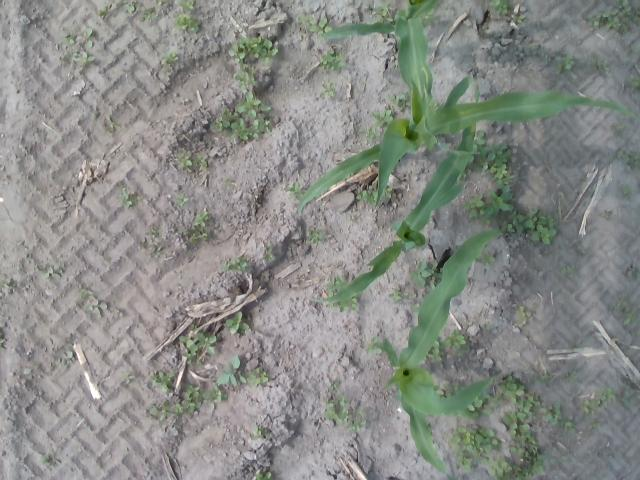Maize: (298, 72, 638, 216), (312, 124, 476, 304), (384, 228, 500, 480), (320, 0, 480, 156)
Weeds: (492, 375, 576, 480), (208, 90, 278, 140), (227, 36, 279, 90), (448, 423, 501, 472), (503, 208, 559, 246), (318, 395, 370, 432), (589, 0, 640, 36), (176, 334, 220, 367), (178, 207, 215, 246), (484, 142, 515, 184), (487, 183, 517, 220), (582, 388, 616, 419), (609, 293, 639, 326), (138, 222, 164, 260), (49, 335, 76, 369), (217, 355, 244, 387), (34, 257, 66, 281), (225, 310, 252, 338), (150, 399, 182, 421), (116, 181, 141, 209), (410, 261, 434, 289), (318, 48, 345, 72), (617, 146, 640, 174), (182, 385, 202, 417), (170, 12, 202, 32), (176, 151, 209, 170), (589, 51, 613, 77), (446, 328, 470, 354), (463, 194, 484, 223), (150, 368, 175, 392), (62, 50, 94, 68), (202, 386, 230, 404), (246, 368, 270, 388), (219, 256, 249, 272), (514, 306, 534, 329), (248, 421, 272, 440), (386, 92, 411, 110), (82, 300, 110, 316), (284, 180, 305, 201), (297, 9, 316, 32), (556, 53, 575, 76), (474, 395, 492, 418), (386, 284, 409, 302), (99, 0, 117, 22), (356, 187, 376, 206), (491, 0, 512, 18), (369, 109, 392, 125), (318, 82, 338, 100), (431, 340, 446, 364), (309, 224, 326, 244), (364, 126, 381, 146), (366, 336, 382, 357), (160, 51, 180, 67), (327, 277, 344, 295), (373, 3, 390, 21), (616, 184, 633, 202), (311, 17, 331, 32), (327, 374, 342, 393), (340, 299, 360, 313), (117, 0, 137, 14), (175, 191, 191, 208), (138, 6, 155, 22), (474, 130, 486, 152), (460, 406, 480, 419), (105, 117, 122, 132), (120, 371, 138, 385), (80, 282, 94, 300), (482, 250, 496, 268), (262, 242, 274, 262), (38, 454, 56, 467), (536, 372, 557, 383), (84, 27, 94, 49), (629, 74, 640, 93), (0, 277, 14, 291), (626, 262, 640, 276), (64, 30, 76, 45), (178, 0, 194, 11), (253, 471, 272, 480), (448, 382, 462, 394), (523, 46, 537, 58), (586, 422, 602, 432), (613, 123, 625, 136), (565, 370, 580, 380), (0, 330, 7, 350), (386, 186, 396, 200), (481, 321, 494, 331), (576, 242, 586, 255), (434, 386, 446, 396), (563, 264, 575, 274), (349, 215, 360, 225), (622, 391, 631, 402), (154, 0, 168, 7), (92, 104, 98, 120), (516, 16, 528, 24), (23, 367, 33, 375), (223, 178, 234, 184), (188, 324, 197, 331)
